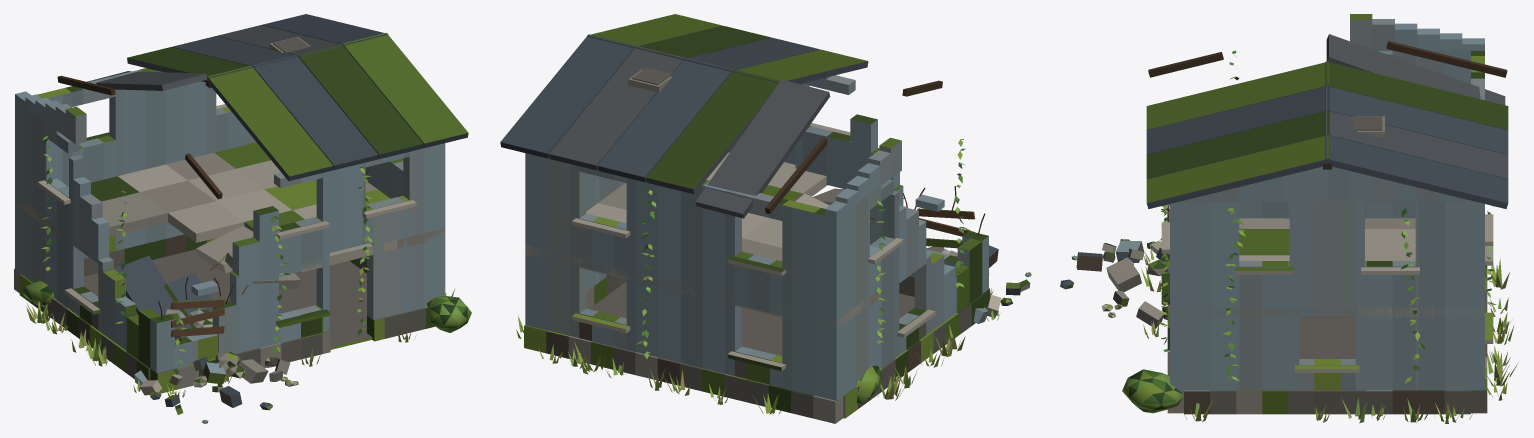
The model's file is house_ruin_b.glb.
The picture shows the model from 3 angles, left to right: view 1: azimuth 30°, elevation 25°; view 2: azimuth 150°, elevation 25°; view 3: azimuth 270°, elevation 25°; orthographic projection. The views are drawn at different scales.
Parts seen in each view (by area): view 1: ruin_b; view 2: ruin_b; view 3: ruin_b.
Boxes of the visible parts, <box> form: ruin_b: <box>14,14,471,423</box>; ruin_b: <box>500,14,1031,423</box>; ruin_b: <box>1060,14,1517,423</box>.
Bounding box in the file's own units: 7.86 × 5.42 × 8.17.
